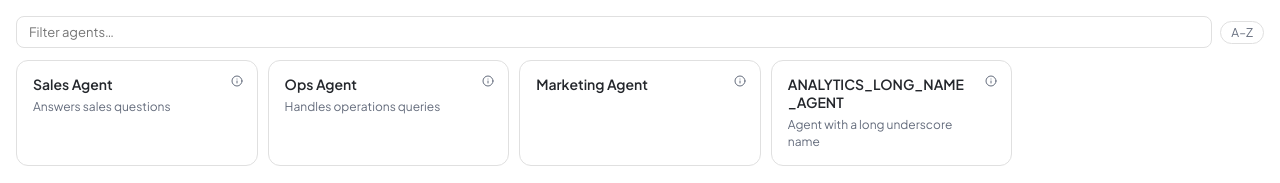
Test: AgentsView › shows empty state when no agents match
The width and height of the screenshot is (1280, 183).
Type "zzznomatch" into the search field labelled "Filter agents". click: coordinates (614, 32)
box: x1=16 y1=16 x2=1212 y2=48
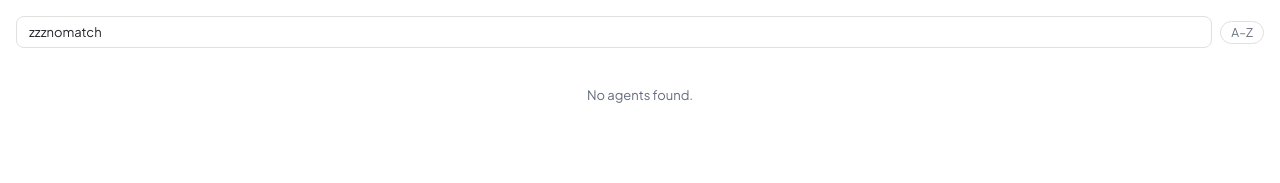
Check: the text "No agents found." is shown, box x1=587 y1=87 x2=693 y2=103
